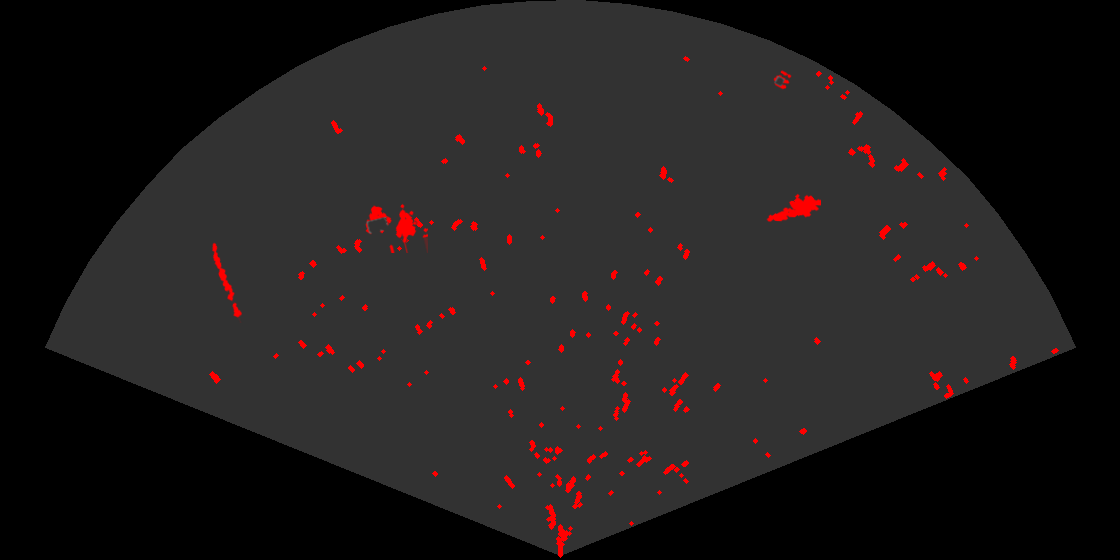ball: (772, 69, 793, 91)
cage: (364, 202, 428, 253)
chain: (210, 241, 244, 323)
frogman: (766, 192, 821, 223)
